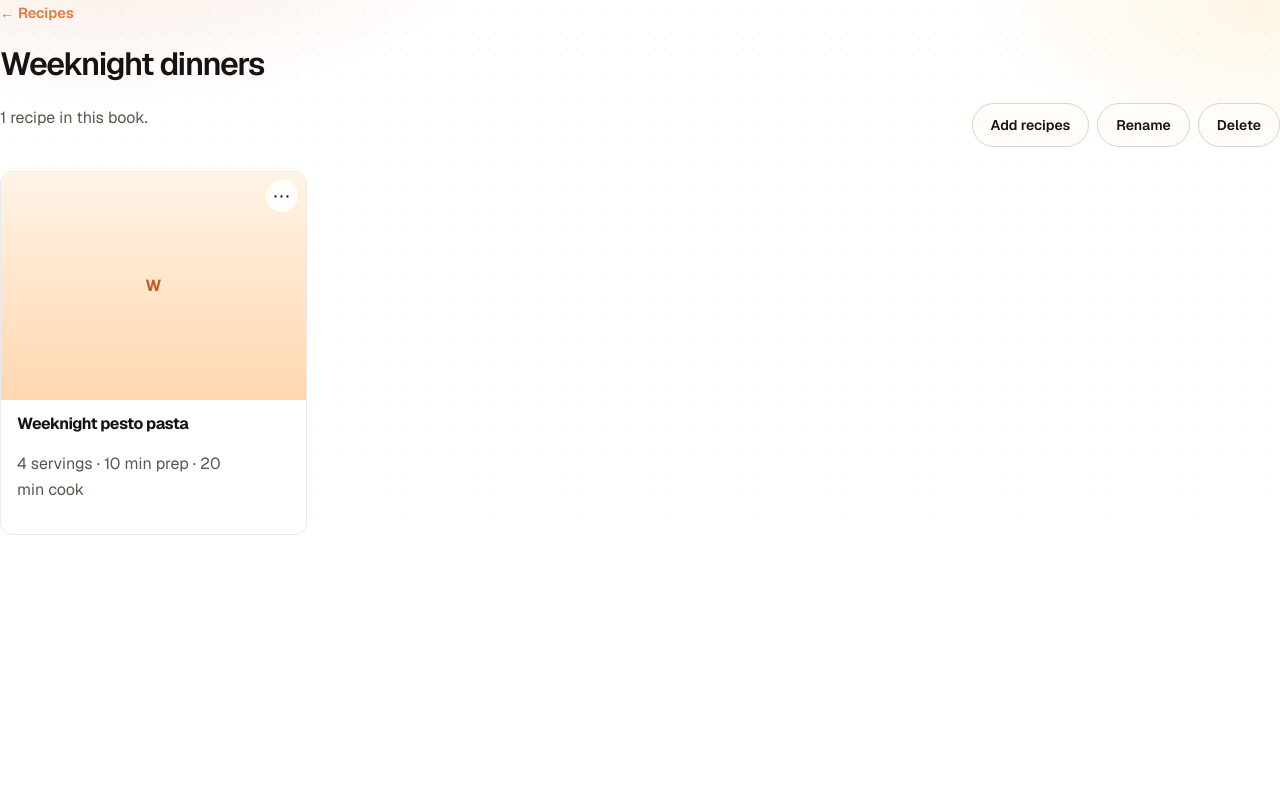
Test: CookbookRecipes add and remove › opens a searchable picker that marks recipes already in the book
Click the button "Add recipes" at (1030, 125), box 972,103 -> 1089,147
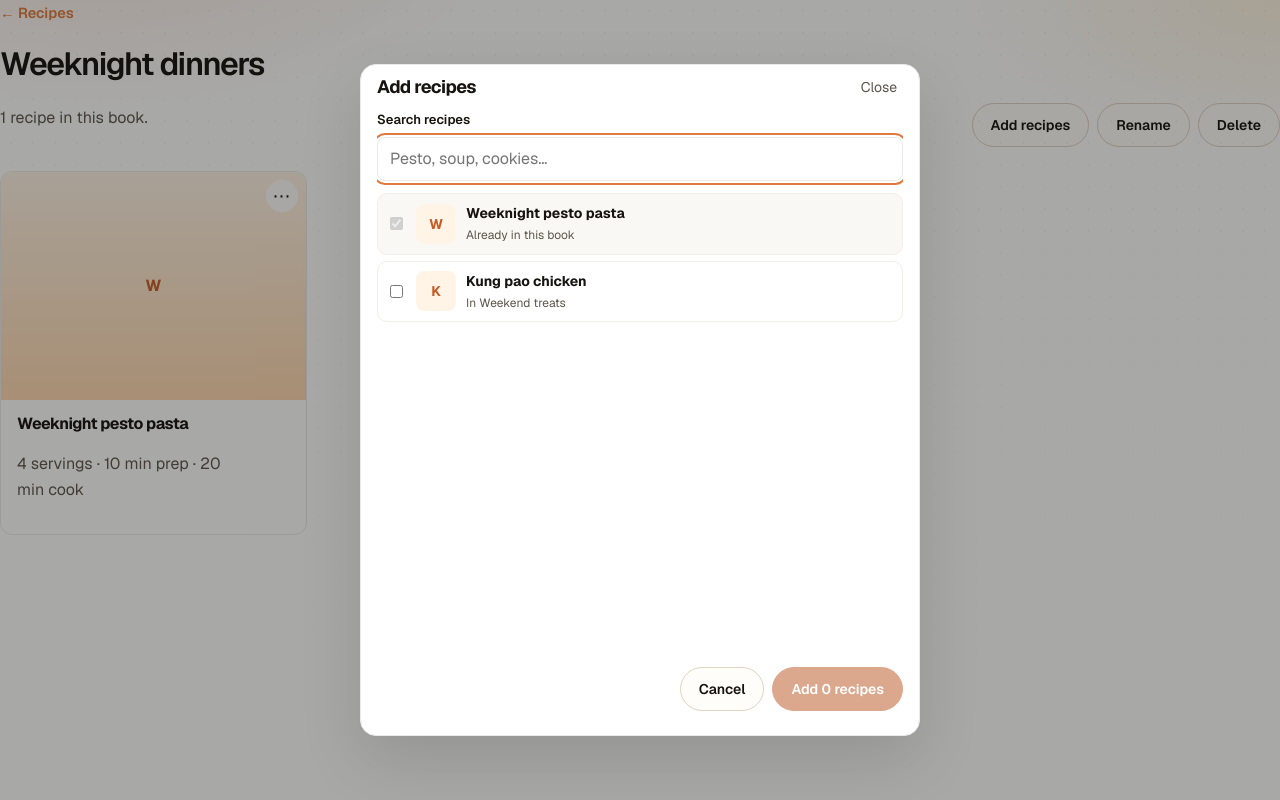
Expected: the text "Already in this book" is shown, 466,227 -> 575,243
Expected: the text "In Weekend treats" is shown, 466,295 -> 566,311
Expected: the checkbox labelled "W Weeknight pesto pasta Already in this book" is disabled, 390,217 -> 403,230
Type keys "kung"
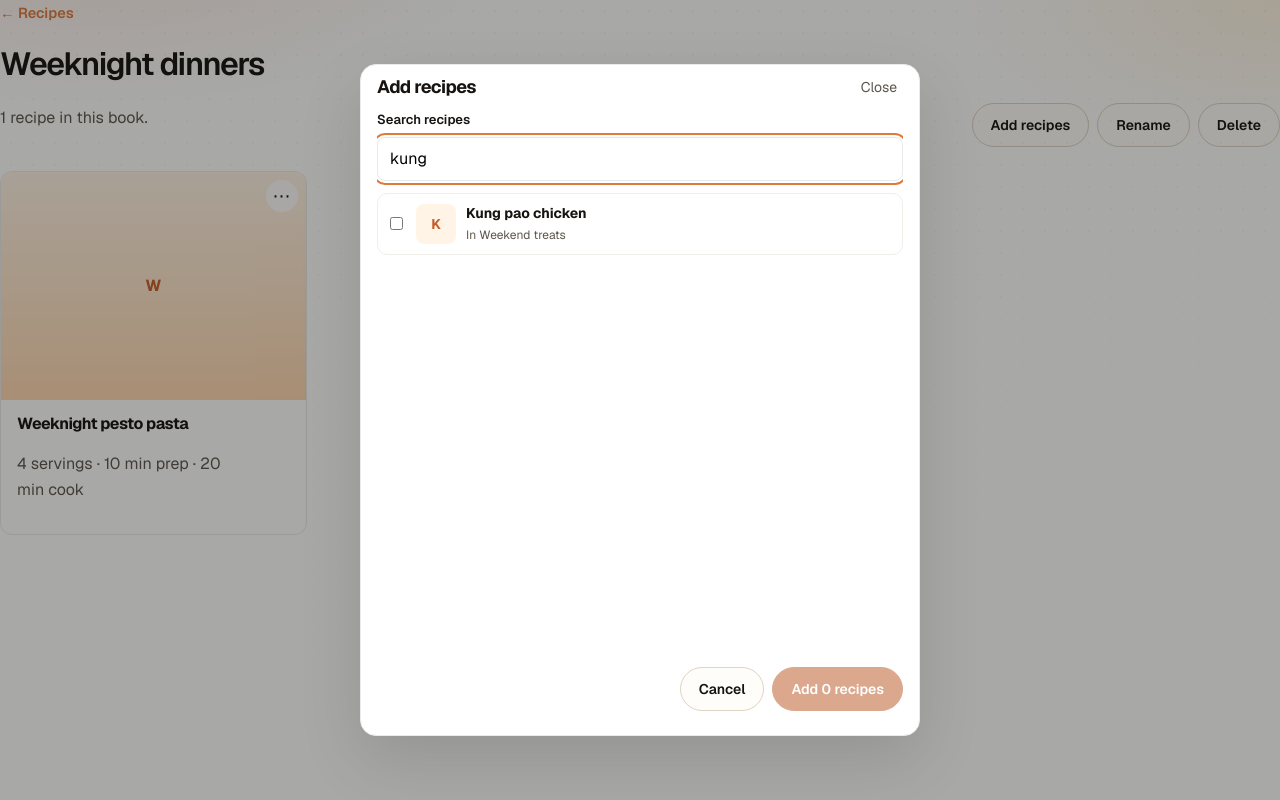
Expected: the checkbox labelled "K Kung pao chicken In Weekend treats" is enabled
Expected: the field labelled "Search recipes" holds "kung", 377,137 -> 903,181
Click the checkbox labelled "K Kung pao chicken In Weekend treats" at (396, 224), box 390,217 -> 403,230
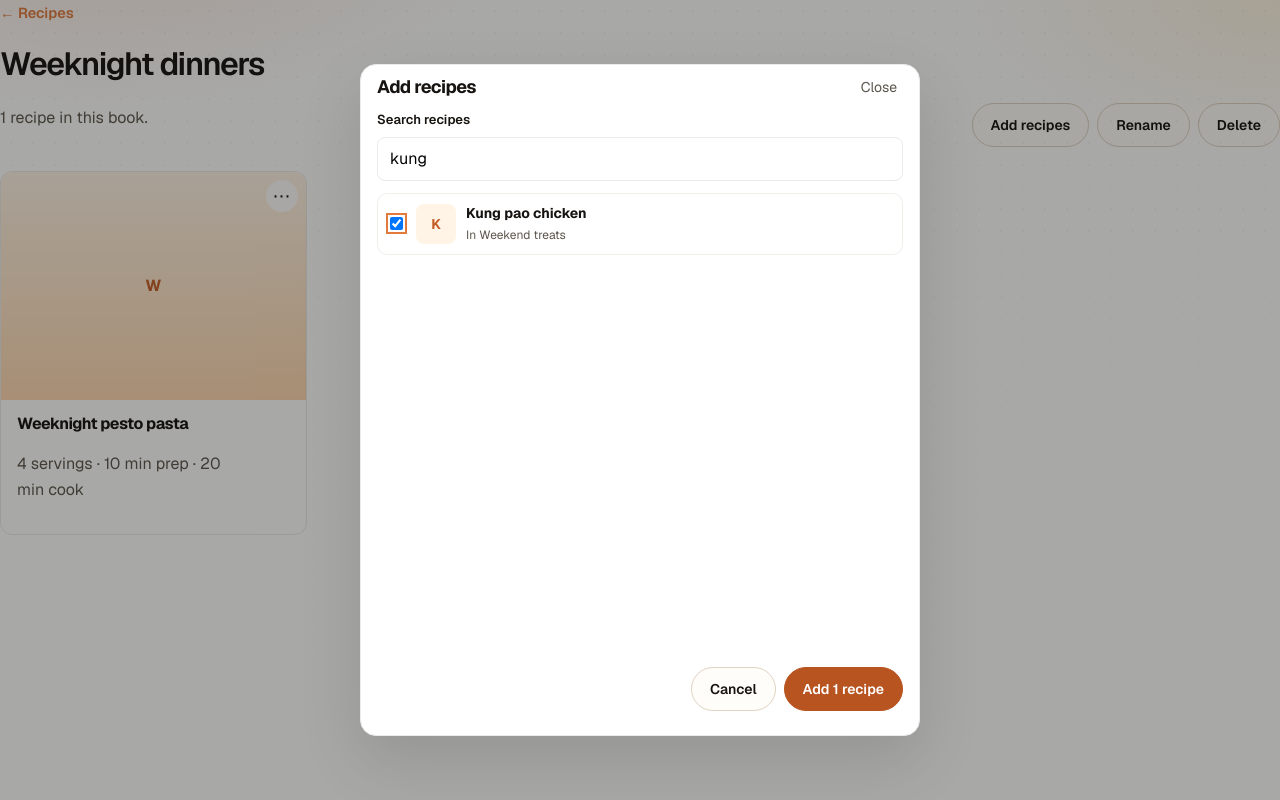
Click the button "Add 1 recipe" at (843, 689), box 784,667 -> 903,711
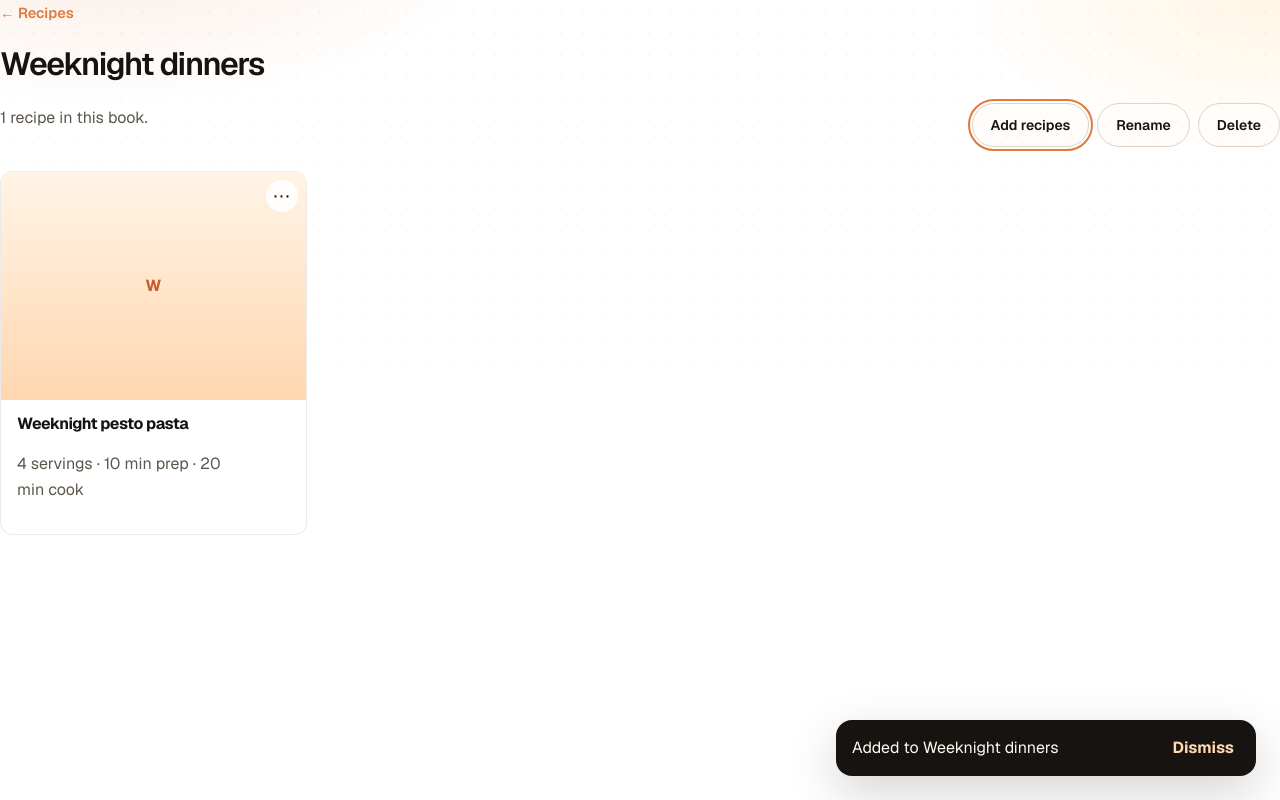
Expected: the message shows "Added to Weeknight dinners", 852,737 -> 1058,758
